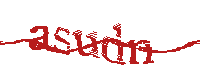a: (28, 25, 50, 53)
d: (102, 21, 125, 67)
n: (129, 37, 155, 64)
s: (52, 24, 71, 57)
u: (72, 30, 101, 59)
